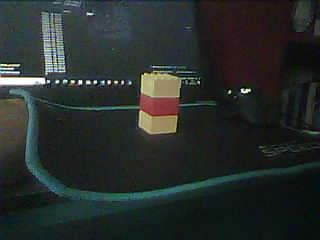lego: (138, 73, 181, 135)
